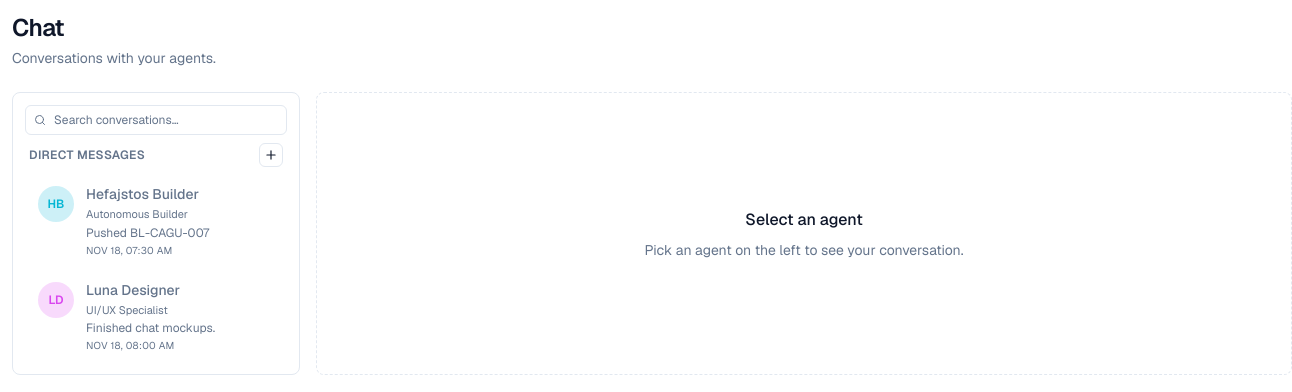
Test: ChatPage › renders the conversation feed when an agent is selected
Click the button "Hefajstos Builder".
click(156, 221)  # box [25, 175, 287, 266]
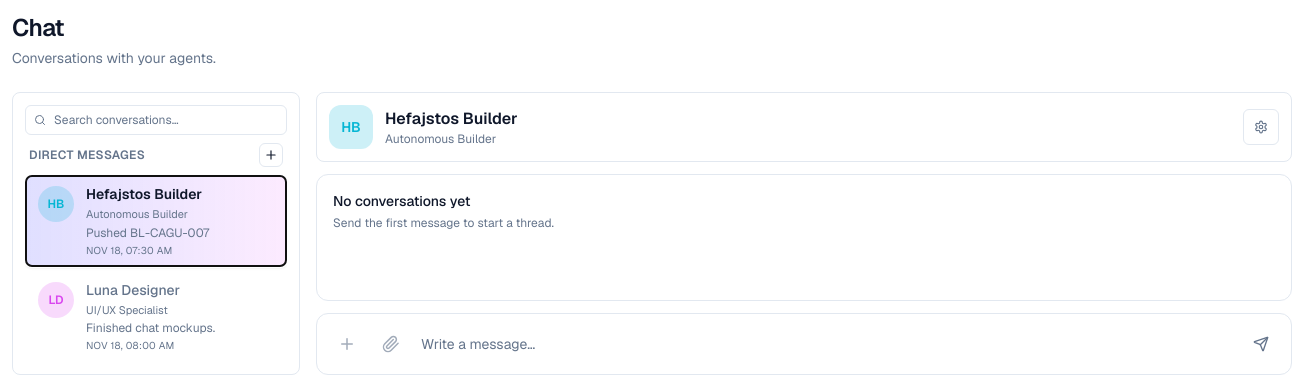
expect the text "Hefajstos Builder" is shown: met, box [86, 185, 202, 203]
expect the button "Hefajstos Builder" is pressed: met, box [25, 175, 287, 266]
